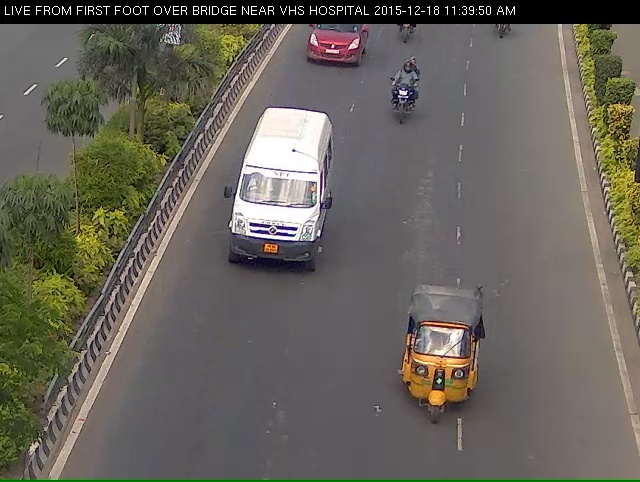Bus: (230, 121, 322, 291)
Car: (399, 296, 481, 447)
Person: (389, 70, 417, 136)
